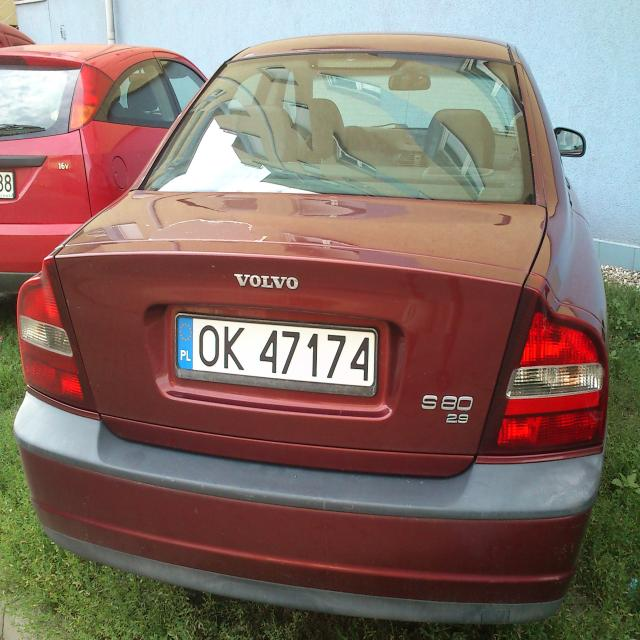pl_license_plate: (177, 315, 375, 386)
